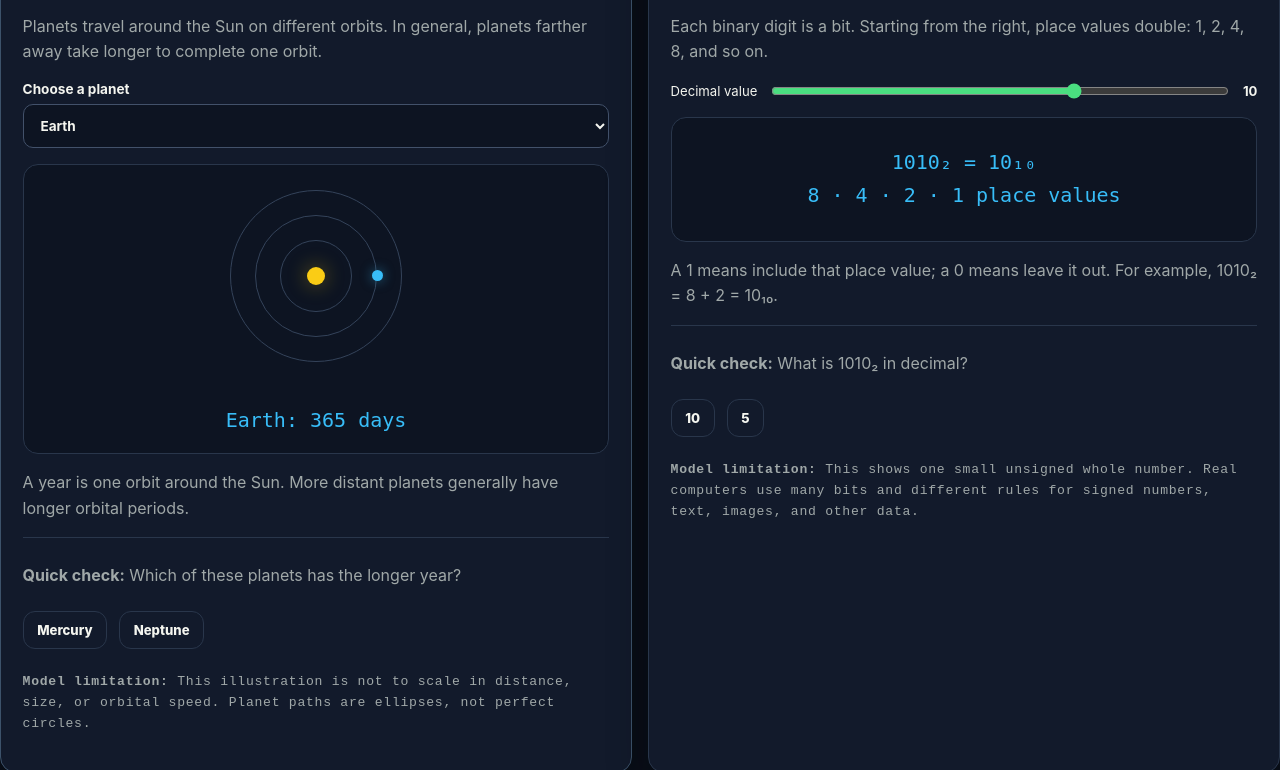
Test case: ScienceExperiences › accepts a correct knowledge check answer
The width and height of the screenshot is (1280, 770).
(page scrolled)
Step 1. Click the button "Neptune" → (162, 630), box [119, 611, 204, 649]
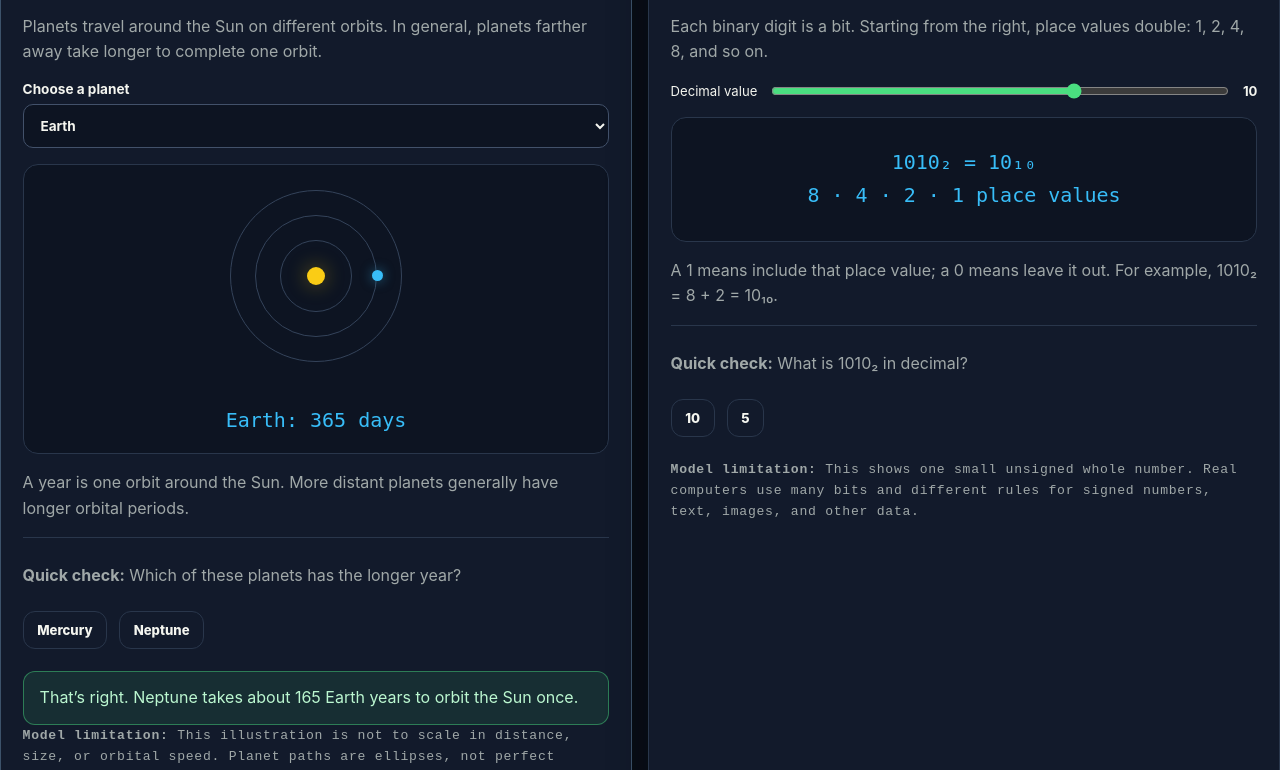
Now the text "That’s right. Neptune takes about 165 Earth years to orbit the Sun once." is shown, box [23, 671, 609, 724]
